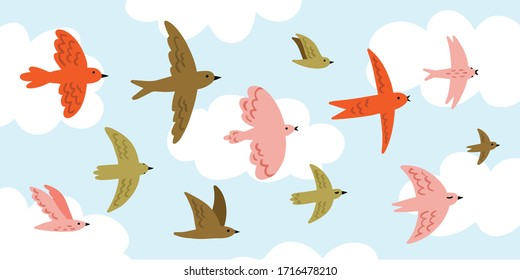bird: (129, 18, 221, 146), (16, 26, 112, 121), (328, 49, 413, 154), (220, 85, 299, 181), (390, 162, 465, 245), (91, 122, 154, 214), (421, 35, 479, 110), (173, 183, 241, 241), (291, 163, 347, 224), (27, 182, 92, 234), (289, 30, 333, 69), (466, 125, 500, 166)
